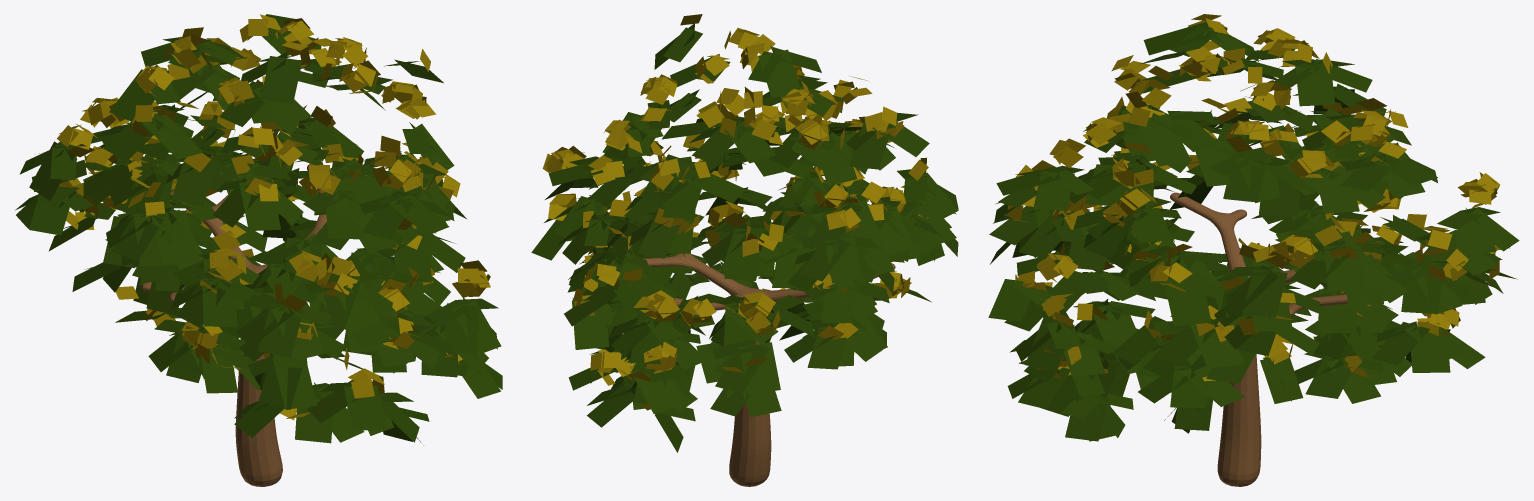
The model's file is pterocarpus.fbx.
3 views of the same model, side by side, from view 1: azimuth 30°, elevation 25°; view 2: azimuth 150°, elevation 25°; view 3: azimuth 270°, elevation 25° (orthographic). The views are drawn at different scales.
Parts seen in each view (by area): view 1: Cube.002; view 2: Cube.002; view 3: Cube.002.
Part boxes in pixels (x1,y1,x2,y2): Cube.002: (15, 14, 502, 486); Cube.002: (531, 14, 958, 486); Cube.002: (988, 14, 1519, 486).
Size of the model in its own units: 582 by 641 by 703.
